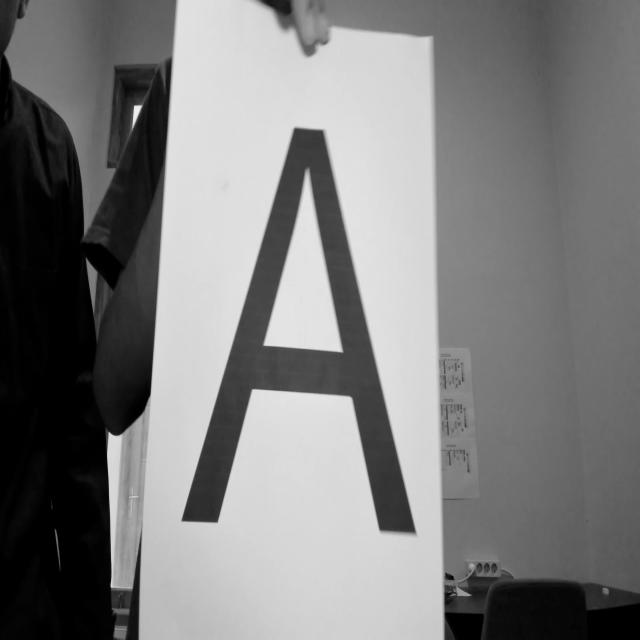a: (178, 111, 431, 570)
